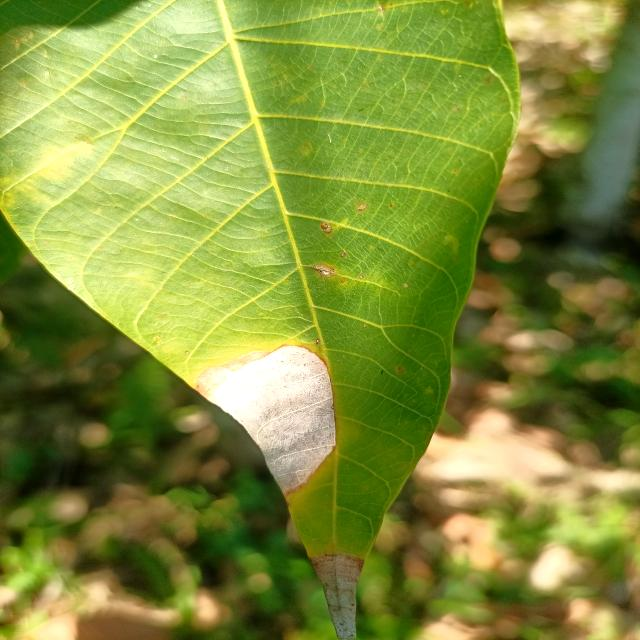Colletotrichum: (360, 274, 364, 279), (316, 339, 319, 342)
Leaf-Blight: (197, 345, 336, 493), (307, 553, 363, 640)
